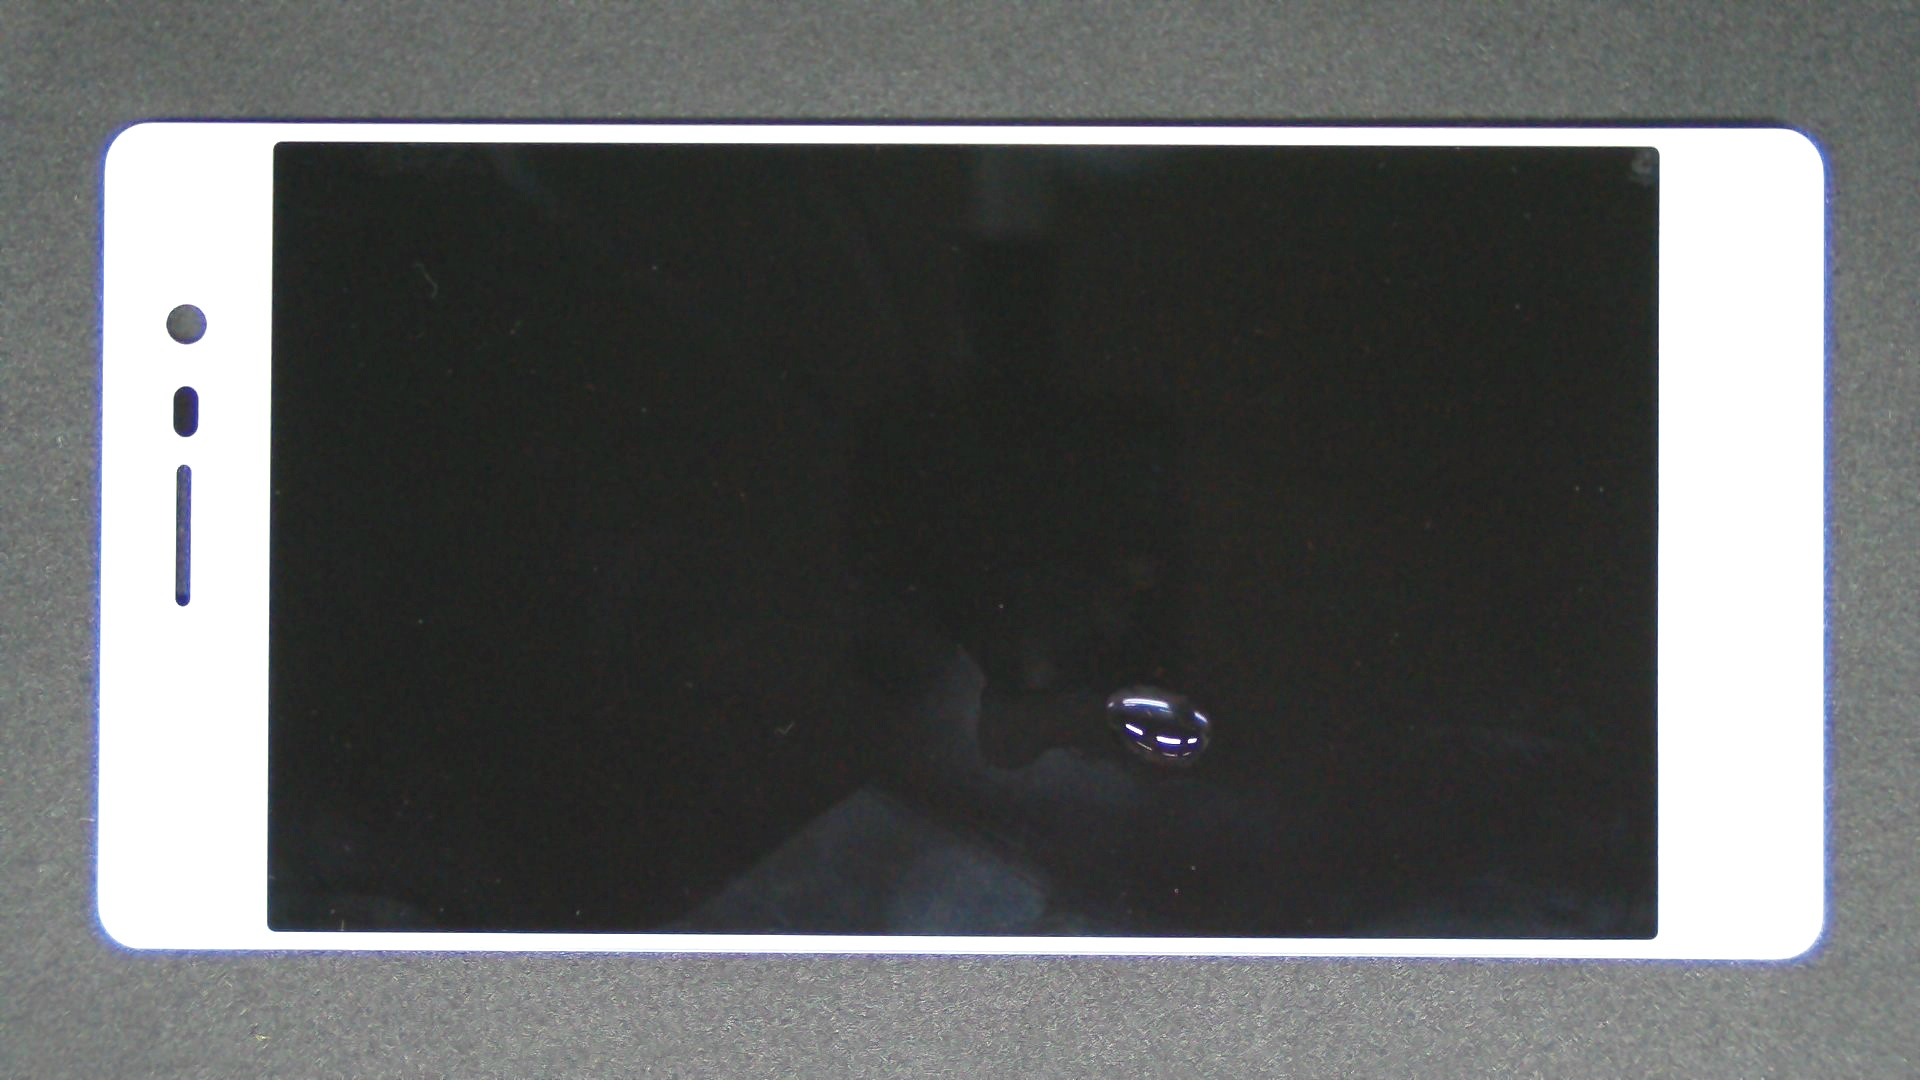oil: (567, 342, 1697, 1026)
